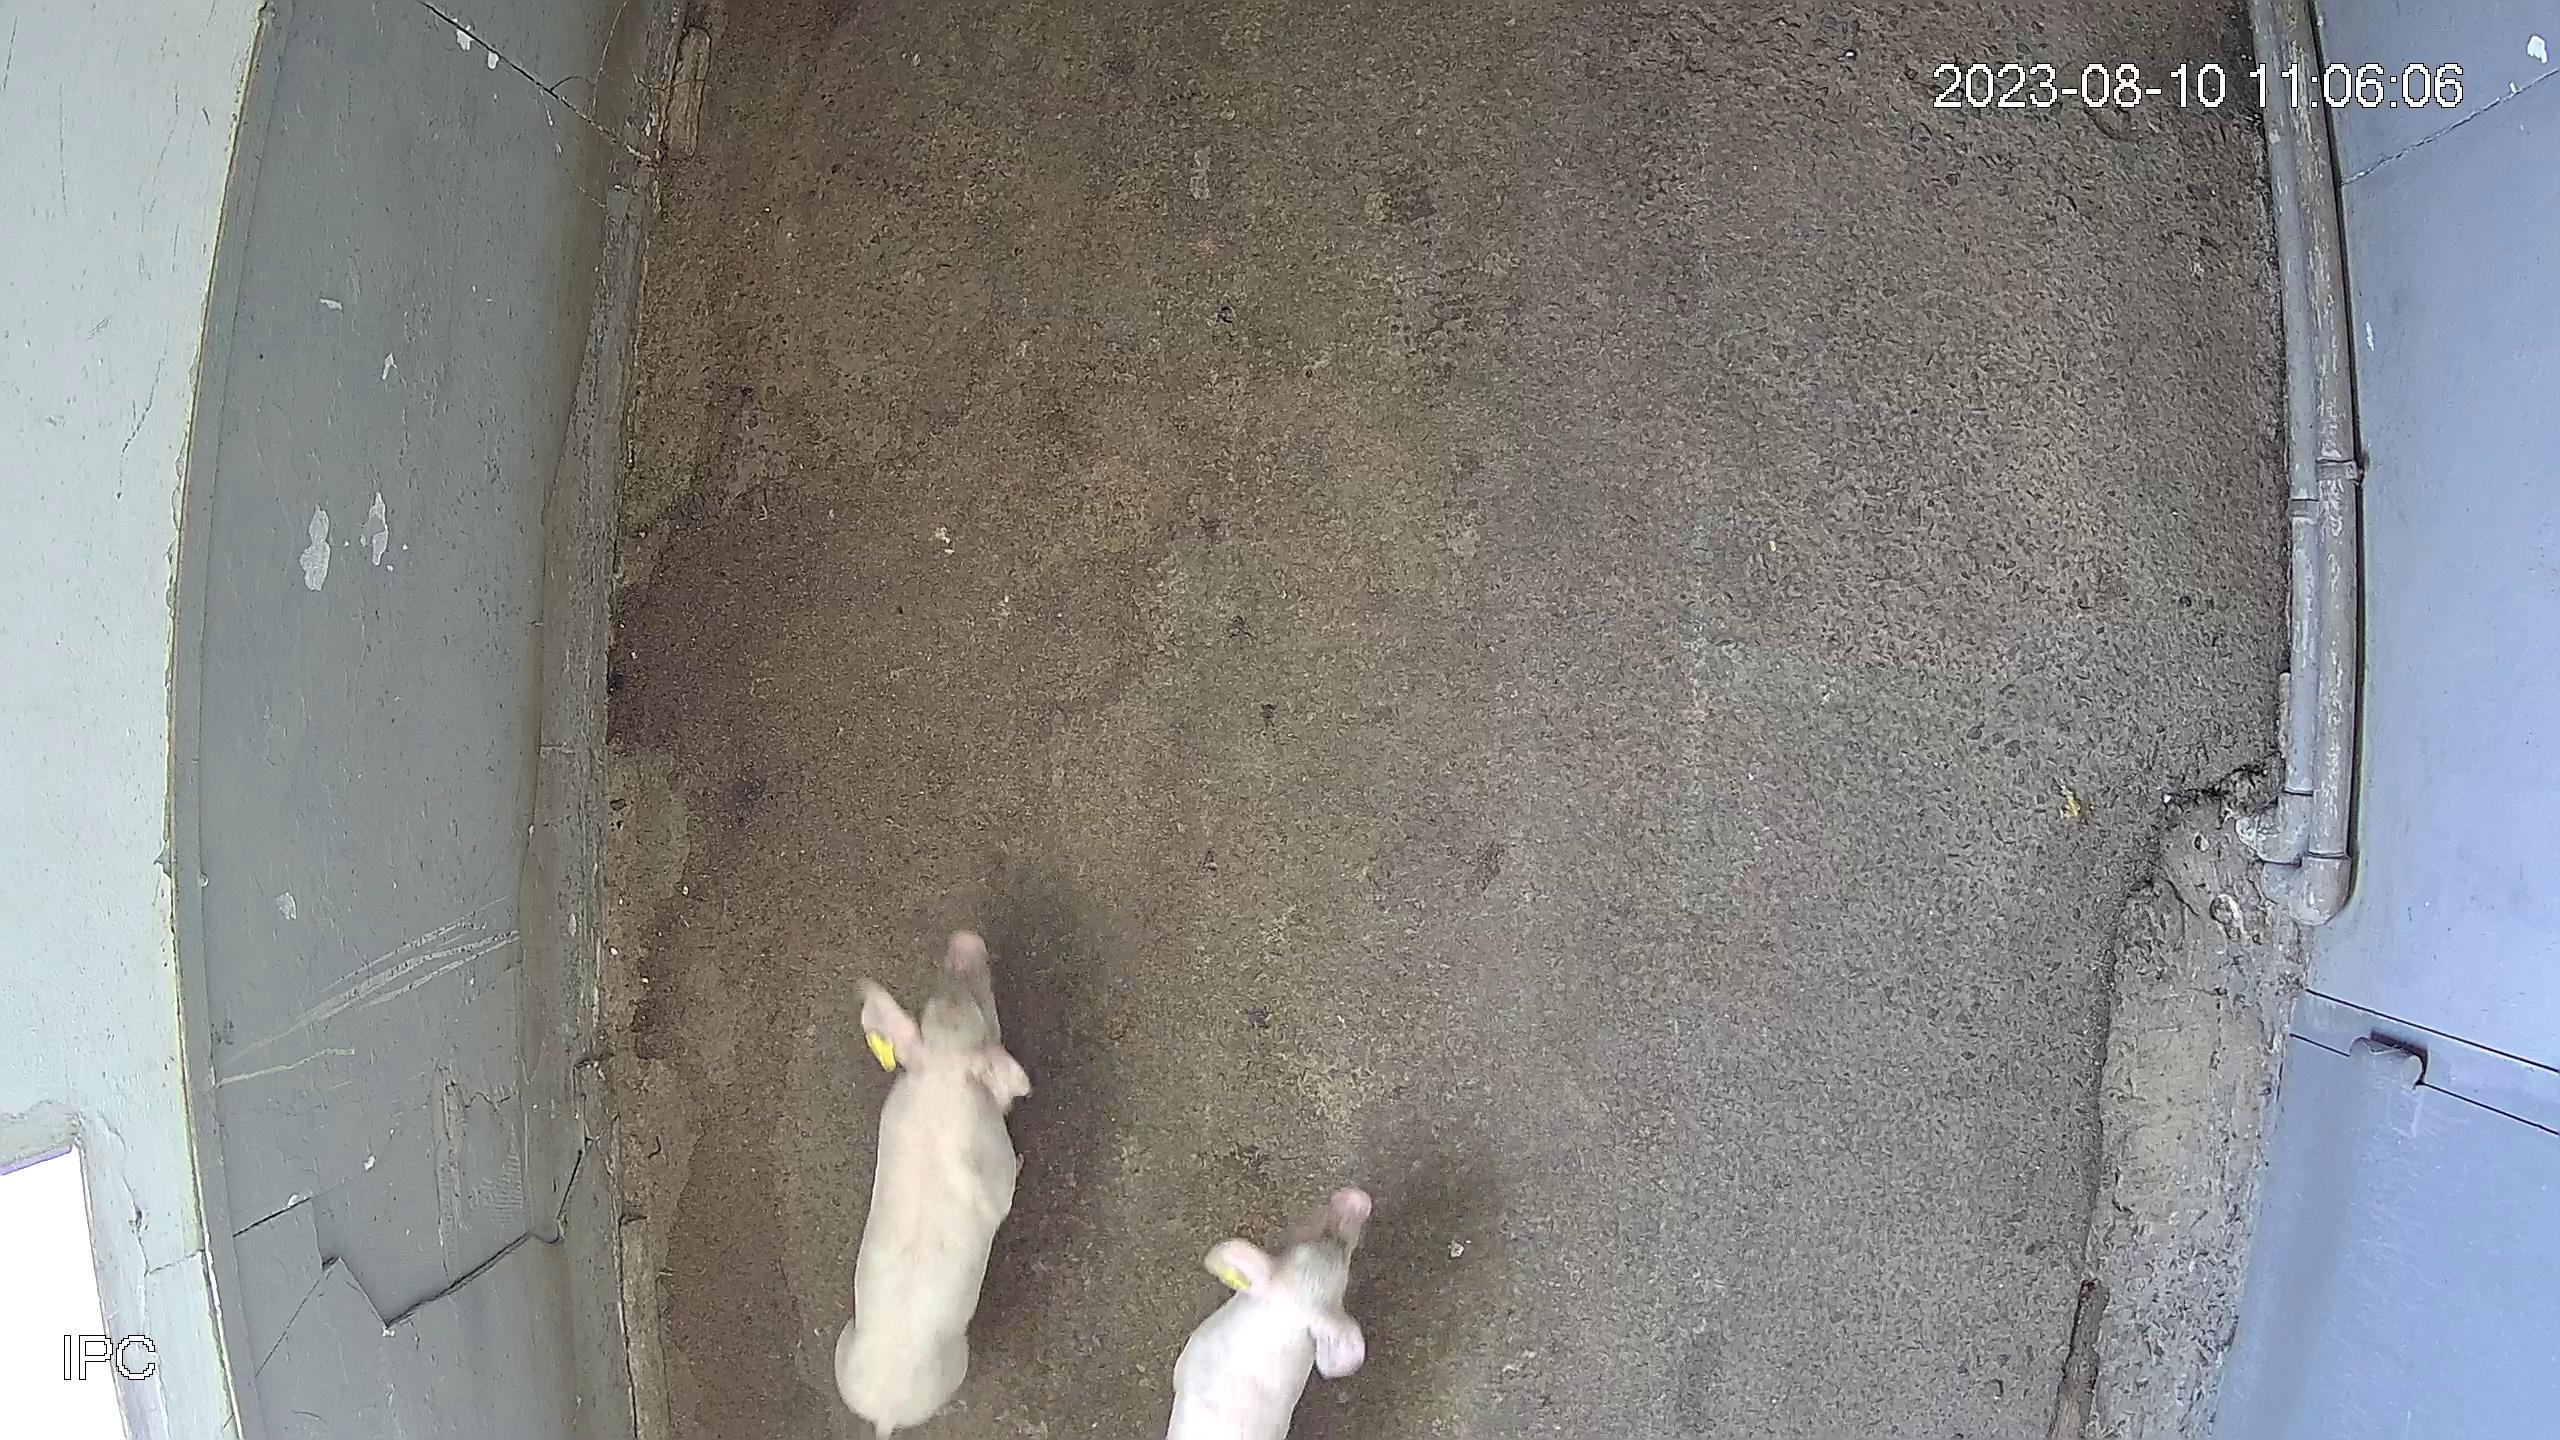Pig: (833, 931, 1030, 1438), (1167, 1188, 1373, 1440)
